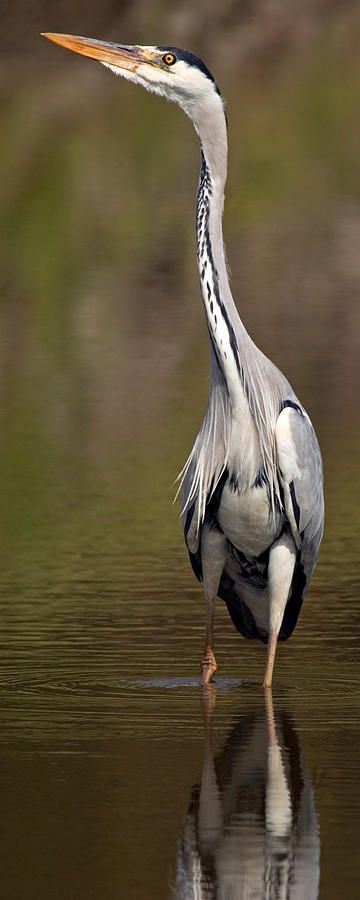heron: (31, 21, 330, 708)
